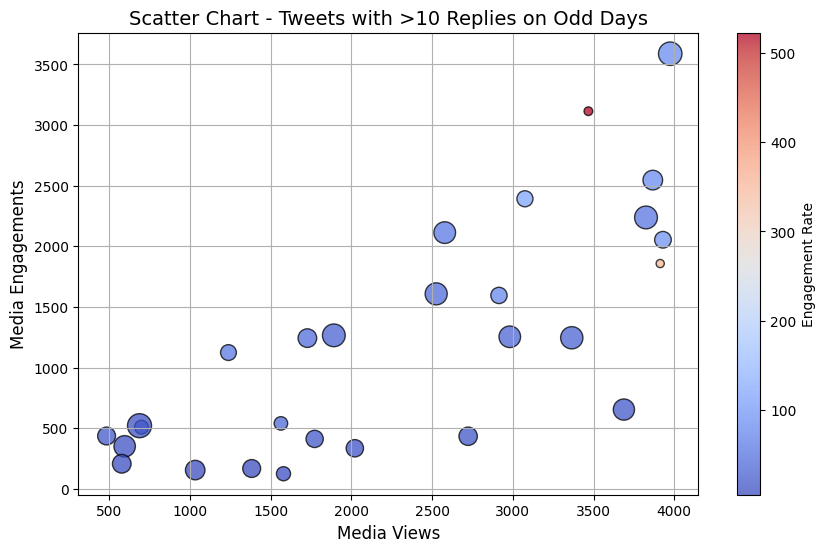

This screenshot's page, from the dashboard's own definition file:
{"tool":"powerbi","page":{"name":"Page 1","canvas":[1280,720],"ordinal":0},"visuals":[{"type":"image","box":[0,0,1280.2,720],"z":0}]}

Visuals, with their boxes on the page's 1280x720 design canvas (x1, y1, x2, y2). These are canvas units, not pixel positions in the 825x552 screenshot, which may show the page scaled, cropped or inside an application window:
image: Rect(0, 0, 1280, 720)
